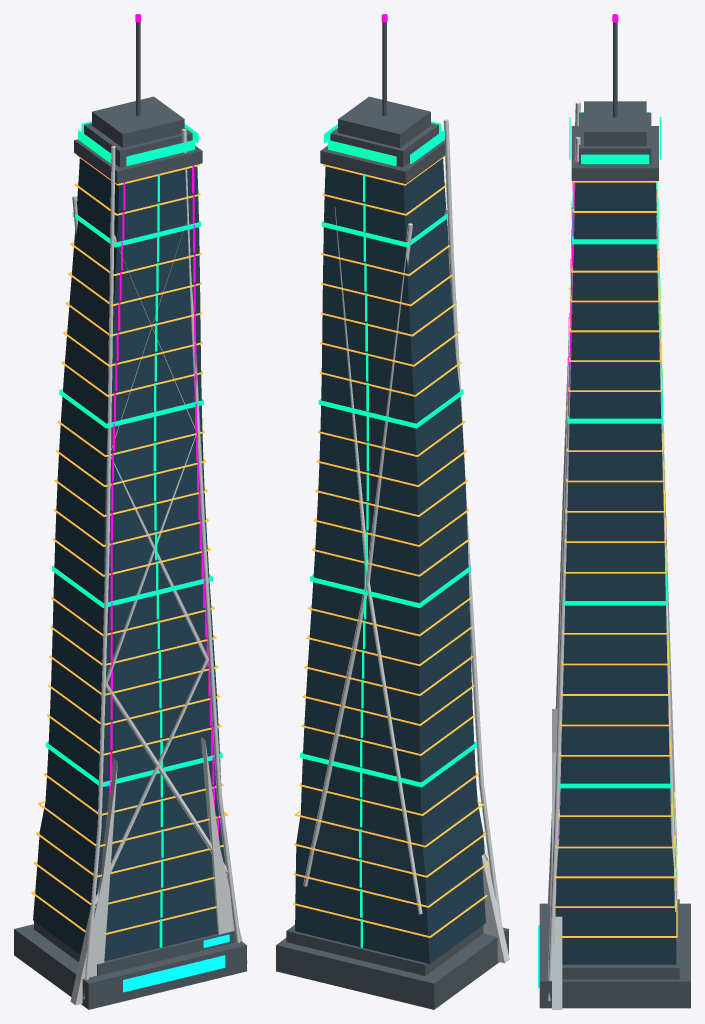
The model's file is stage 10.glb.
3 views of the same model, side by side, from view 1: azimuth 30°, elevation 25°; view 2: azimuth 150°, elevation 25°; view 3: azimuth 270°, elevation 25° (orthographic).
Visible parts, largest first — view 1: FutureShanghaiGlassSail, ShanghaiWhiteExoskeleton, ShanghaiGoldBands, FutureShanghaiPodium, ShanghaiTechCrown, ShanghaiMagentaEdges, ShanghaiSkyLobbies, ShanghaiLeftSailSupport, ShanghaiJadeSpine, ShanghaiRightSailSupport, PodiumMediaFacade, ShanghaiCrownSignage; view 2: FutureShanghaiGlassSail, FutureShanghaiPodium, ShanghaiGoldBands, ShanghaiWhiteExoskeleton, ShanghaiTechCrown, ShanghaiSkyLobbies, ShanghaiJadeSpine, ShanghaiLeftSailSupport, ShanghaiCrownSignage; view 3: FutureShanghaiGlassSail, FutureShanghaiPodium, ShanghaiGoldBands, ShanghaiWhiteExoskeleton, ShanghaiTechCrown, ShanghaiSkyLobbies, ShanghaiRightSailSupport, ShanghaiCrownSignage, ShanghaiMagentaEdges, ShanghaiJadeSpine, ShanghaiAntenna.
Part boxes in pixels (x1,y1,x2,y2): FutureShanghaiGlassSail: (33,158,227,961); ShanghaiWhiteExoskeleton: (72,128,240,999); ShanghaiGoldBands: (31,155,228,934); FutureShanghaiPodium: (14,921,246,1009); ShanghaiTechCrown: (74,96,202,183); ShanghaiMagentaEdges: (109,165,218,933); ShanghaiSkyLobbies: (45,212,222,786); ShanghaiLeftSailSupport: (70,758,117,1005); ShanghaiJadeSpine: (153,174,163,947); ShanghaiRightSailSupport: (201,737,247,963); PodiumMediaFacade: (123,934,229,992); ShanghaiCrownSignage: (78,121,198,165); FutureShanghaiGlassSail: (295,158,485,964); FutureShanghaiPodium: (276,925,508,1009); ShanghaiGoldBands: (293,156,489,937); ShanghaiWhiteExoskeleton: (303,119,501,918); ShanghaiTechCrown: (320,96,445,183); ShanghaiSkyLobbies: (300,214,477,787); ShanghaiJadeSpine: (359,174,368,947); ShanghaiLeftSailSupport: (476,789,509,963); ShanghaiCrownSignage: (324,121,444,165); FutureShanghaiGlassSail: (555,182,676,964); FutureShanghaiPodium: (539,899,690,1008); ShanghaiGoldBands: (554,181,677,937); ShanghaiWhiteExoskeleton: (547,102,677,1000); ShanghaiTechCrown: (571,101,658,180); ShanghaiSkyLobbies: (558,197,671,788); ShanghaiRightSailSupport: (552,752,562,1009); ShanghaiCrownSignage: (569,112,661,164); ShanghaiMagentaEdges: (558,181,574,838); ShanghaiJadeSpine: (566,181,677,902); ShanghaiAntenna: (613,22,617,117).
Bounding box in the file's own units: 14.4 × 75.69 × 10.91.
